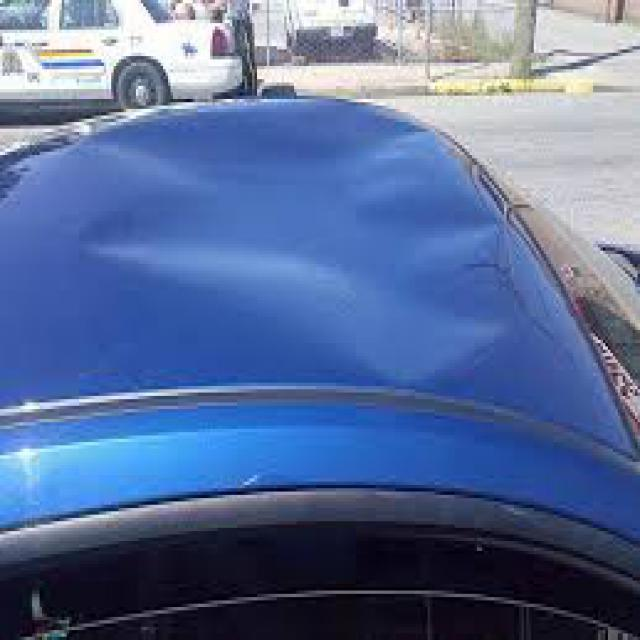roof-dent: (10, 89, 635, 482)
